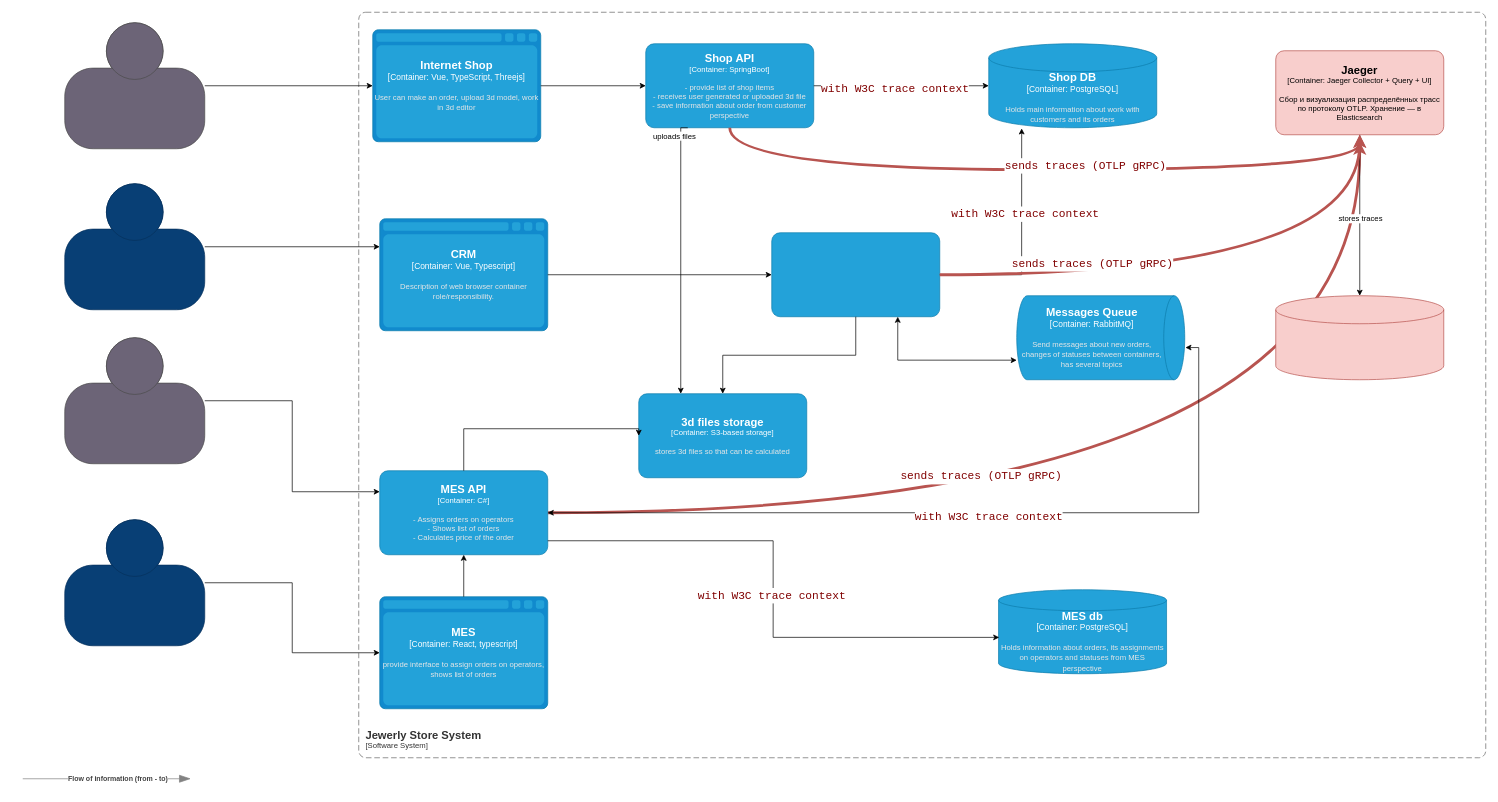
Image size: 1498x802. Some labels were removed from this diagram. The box of each missing label's shape, as (x1, y1, x2, y2) in pixels:
API user [Person] Description of external person.: (64, 337, 205, 464)
CRM API [Container: SpringBoot] Description of container role/responsibility.: (771, 232, 940, 317)
Customer [Person] Description of external person.: (64, 22, 205, 149)
Jaeger Storage [Container: Elasticsearch] Хранилище распределённых трасс Jaeger: (1275, 295, 1444, 380)
Operator [Person] Takes order in work, manufactures jewerly: (64, 519, 205, 646)
Seller [Person] Operates with order, confirms manufacturing for the user: (64, 183, 205, 310)
